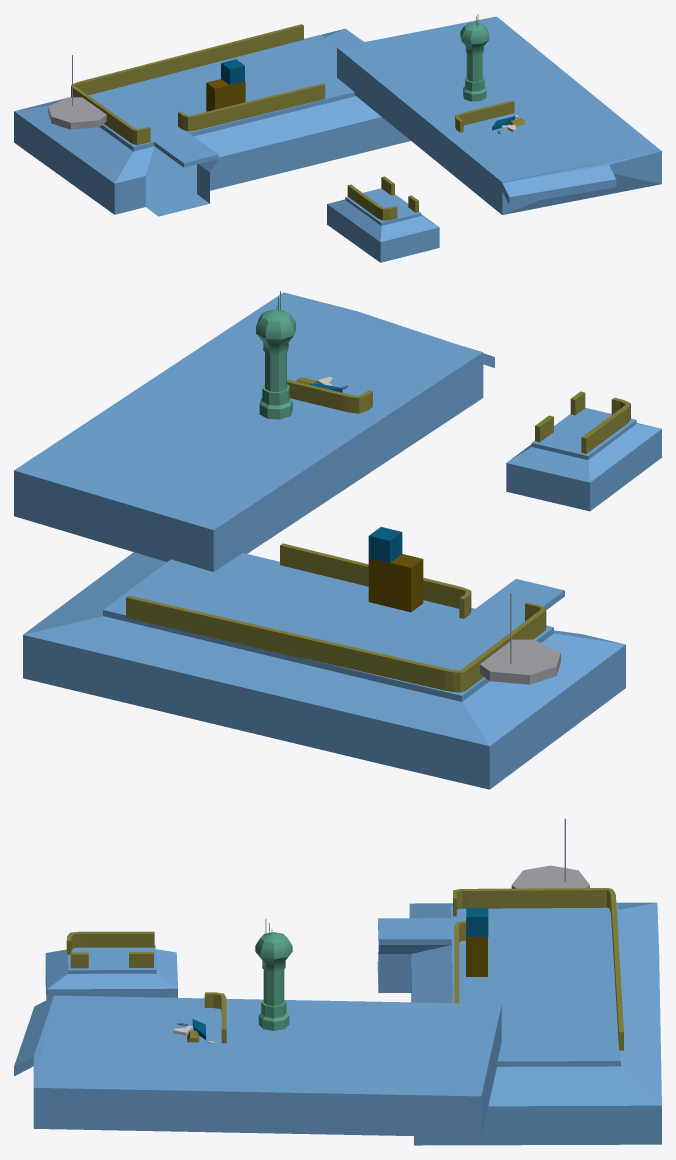
The model's file is forward platforms.fbx.
3 renders of one model, top to bottom at view 1: azimuth 30°, elevation 25°; view 2: azimuth 150°, elevation 25°; view 3: azimuth 270°, elevation 25°, orthographic. The views are drawn at different scales.
Visible parts, largest first — view 1: main_platform, Lower_Platform1, Lower_Platform, fencing_side1, fencing_side, Tower, light_platform, crate_b, fencing_side6, fencing_side3, crate_a; view 2: Lower_Platform1, main_platform, Lower_Platform, fencing_side1, fencing_side, Tower, light_platform, crate_b, fencing_side6, fencing_side3, crate_a; view 3: main_platform, Lower_Platform1, Lower_Platform, fencing_side1, Tower, fencing_side3, light_platform, crate_b, crate_a, fencing_side, fencing_side6.
Part boxes in pixels (x1,y1,x2,y2): main_platform: (337, 16, 661, 214); Lower_Platform1: (14, 28, 410, 216); Lower_Platform: (327, 188, 439, 262); fencing_side1: (71, 24, 303, 145); fencing_side: (178, 83, 325, 131); Tower: (460, 14, 489, 101); light_platform: (48, 97, 106, 129); crate_b: (206, 79, 245, 111); fencing_side6: (455, 100, 514, 132); fencing_side3: (347, 184, 397, 220); crate_a: (221, 59, 244, 84); Lower_Platform1: (23, 552, 625, 789); main_platform: (14, 292, 494, 571); Lower_Platform: (506, 408, 661, 511); fencing_side1: (126, 595, 546, 692); fencing_side: (280, 543, 471, 618); Tower: (256, 291, 295, 419); light_platform: (480, 639, 560, 684); crate_b: (368, 554, 423, 612); fencing_side6: (287, 379, 372, 413); fencing_side3: (581, 398, 630, 453); crate_a: (368, 527, 402, 562); main_platform: (14, 995, 501, 1137); Lower_Platform1: (377, 902, 661, 1145); Lower_Platform: (45, 945, 177, 999); fencing_side1: (453, 888, 623, 1050); Tower: (255, 919, 292, 1030); fencing_side3: (66, 931, 154, 954); light_platform: (511, 865, 589, 888); crate_b: (466, 919, 487, 976); crate_a: (466, 908, 488, 936); fencing_side: (454, 920, 465, 1003); fencing_side6: (204, 992, 226, 1043).
Bounding box in the file's own units: 82.12 × 31.6 × 88.46.
